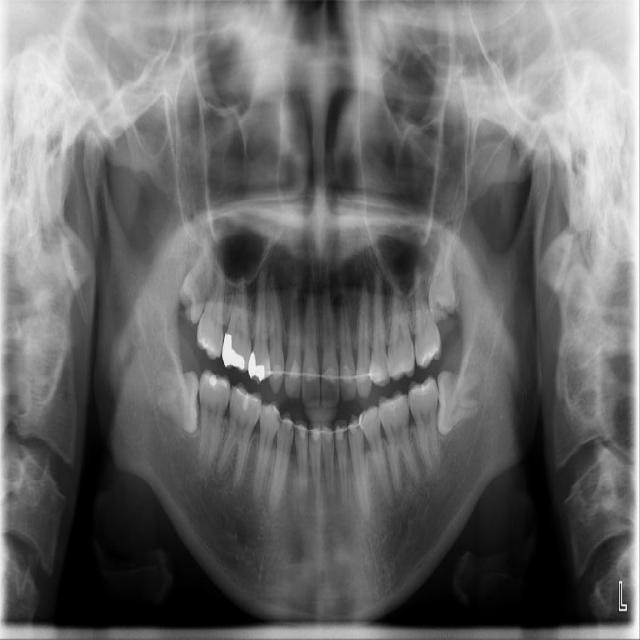Filling: (221, 332, 246, 371), (248, 344, 271, 384), (238, 391, 255, 414), (209, 374, 218, 388)
impacted tooth: (178, 241, 217, 322), (437, 369, 487, 432), (150, 370, 198, 433), (428, 226, 455, 320)
